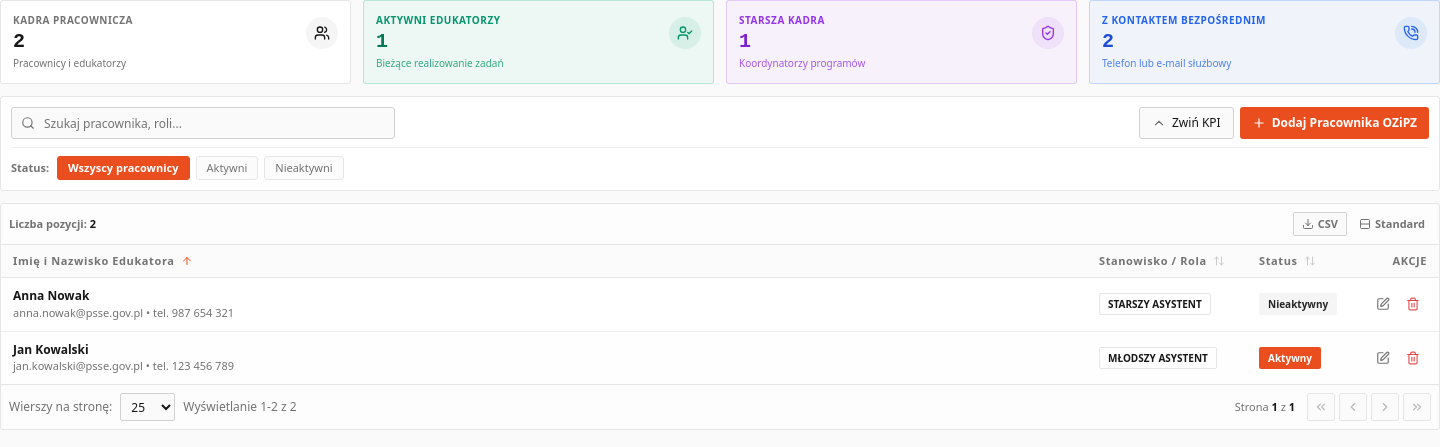
Test: Staff Module Components › StaffSection › filters staff by active status chip
Click the button "Aktywni".
click(227, 168)  # box x1=196 y1=156 x2=258 y2=180
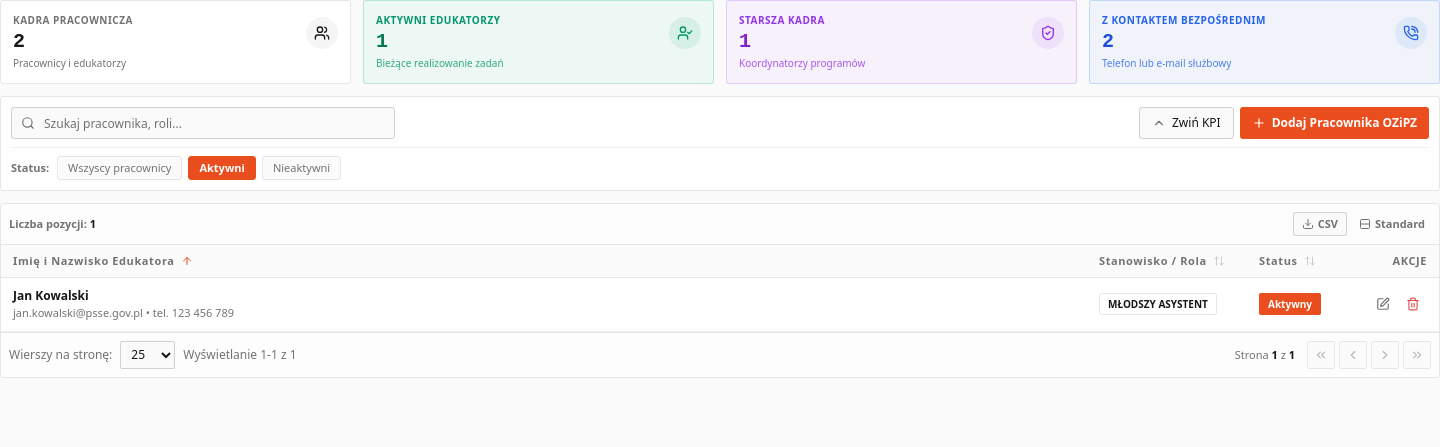
expect the text "Jan Kowalski" is shown: met, box x1=13 y1=287 x2=89 y2=304
expect the text "Anna Nowak" is gone: met
